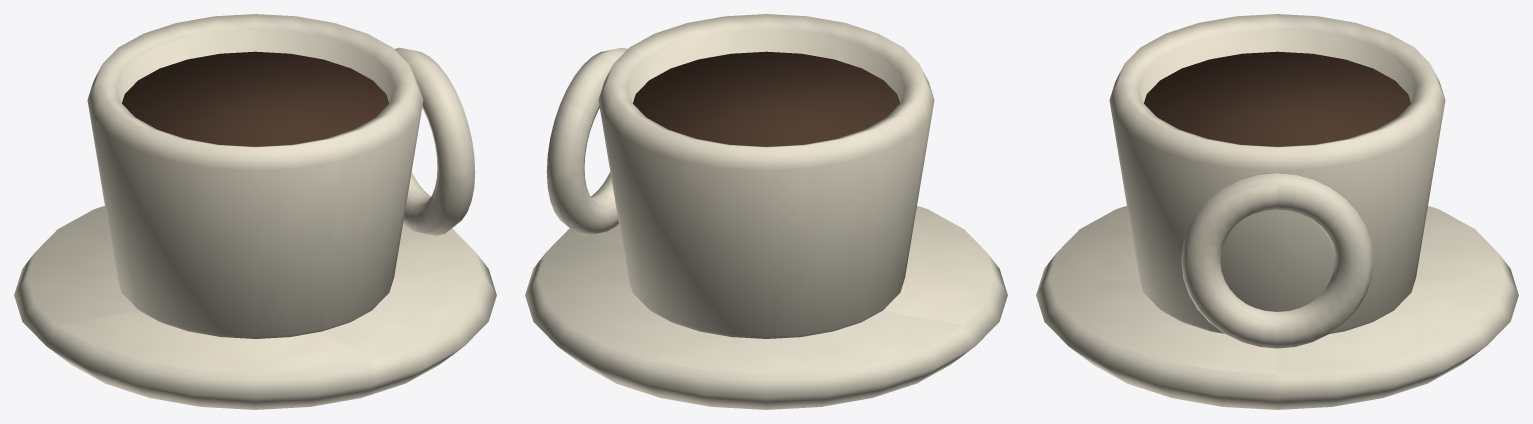
File: WC_CAFE_Cup_Saucer_A.glb
The picture shows the model from 3 angles, left to right: view 1: azimuth 30°, elevation 25°; view 2: azimuth 150°, elevation 25°; view 3: azimuth 270°, elevation 25°; orthographic projection.
Visible parts, largest first — view 1: WC_CAFE_Cup_Saucer_A_RenderMesh; view 2: WC_CAFE_Cup_Saucer_A_RenderMesh; view 3: WC_CAFE_Cup_Saucer_A_RenderMesh.
Boxes of the visible parts, left/top/right/bottom form: WC_CAFE_Cup_Saucer_A_RenderMesh: left=14, top=14, right=496, bottom=409; WC_CAFE_Cup_Saucer_A_RenderMesh: left=525, top=14, right=1007, bottom=409; WC_CAFE_Cup_Saucer_A_RenderMesh: left=1036, top=14, right=1518, bottom=409.
Size of the model in its own units: 0.296 by 0.162 by 0.296.
Materials: 2 (1 with a texture image).
